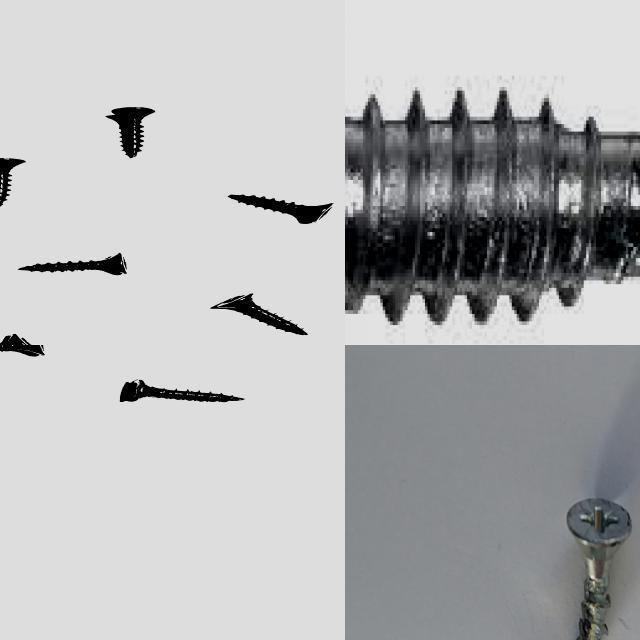Screw: (345, 91, 640, 329), (567, 498, 632, 640), (68, 92, 185, 166), (213, 293, 309, 335), (230, 194, 336, 224), (122, 380, 247, 402), (19, 253, 128, 275), (0, 158, 26, 206), (0, 345, 46, 356), (0, 334, 32, 345)
